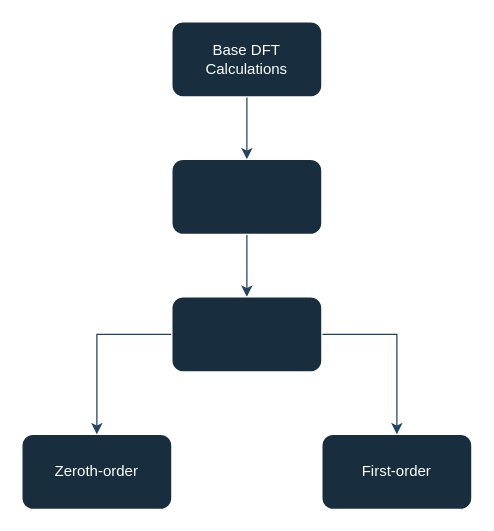
The diagram is 494 pixels wide and 531 high, and some of its shapes have lost their labels. Here are the shapes that lost their labels. From the top down, the centre of each, then its label:
the point at 246,196: Export
the point at 246,334: Phonons
